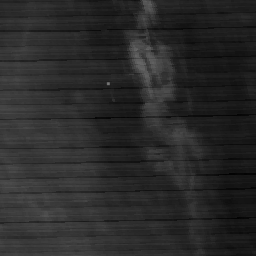Target: (105, 80, 111, 86)
